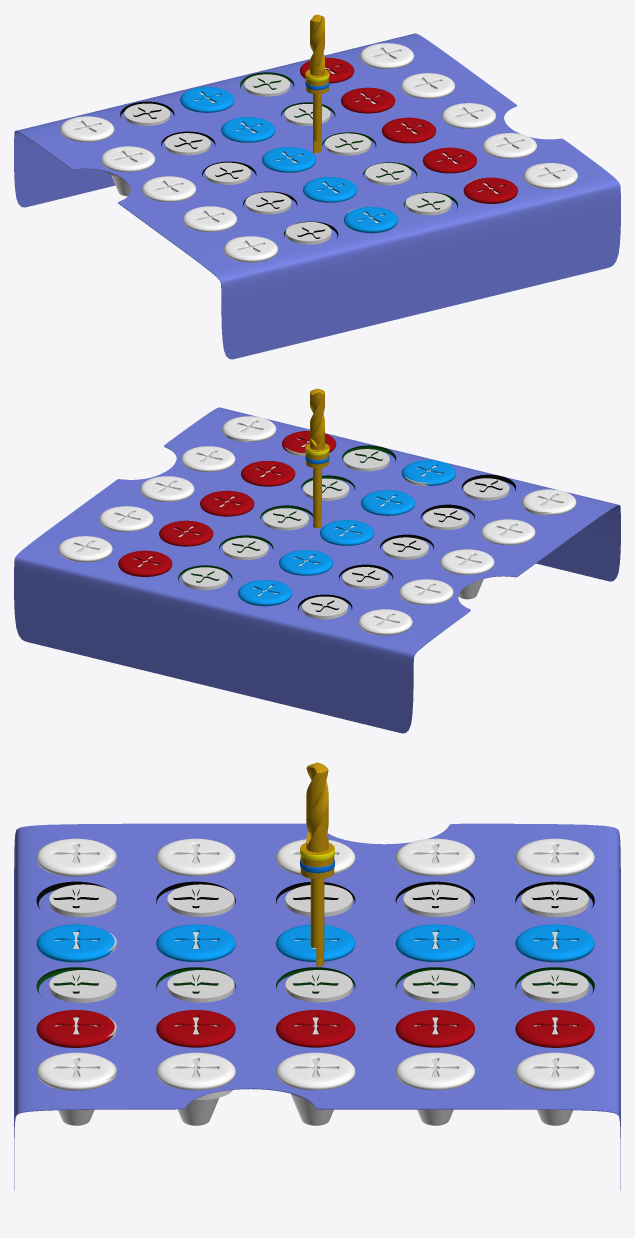
3 renders of one model, top to bottom at view 1: azimuth 30°, elevation 25°; view 2: azimuth 150°, elevation 25°; view 3: azimuth 270°, elevation 25°, orthographic. The views are drawn at different scales.
Parts seen in each view (by area): view 1: Plane, Cylinder.002, Slot.002, Slot.005, Slot.025, Slot.030, Slot.015, Slot.001, Slot.022, Slot.023, Slot.026, Slot.024 (+12 smaller); view 2: Plane, Cylinder.002, Slot.003, Slot.001, Slot.026, Slot.011, Slot.021, Slot.022, Slot.002, Slot.023, Slot.028, Slot.013 (+12 smaller); view 3: Plane, Cylinder.002, Slot.029, Slot.028, Slot.027, Slot.026, Slot.030, Slot.001, Slot.011, Slot.021, Slot.004, Slot.002 (+12 smaller).
Part boxes in pixels (left/top/right/bottom): Plane: left=14, top=33, right=620, bottom=359; Cylinder.002: left=74, top=49, right=563, bottom=252; Slot.002: left=101, top=146, right=155, bottom=196; Slot.005: left=223, top=236, right=277, bottom=262; Slot.025: left=463, top=177, right=517, bottom=203; Slot.030: left=523, top=163, right=577, bottom=189; Slot.015: left=344, top=207, right=398, bottom=233; Slot.001: left=60, top=116, right=114, bottom=142; Slot.022: left=341, top=87, right=395, bottom=113; Slot.023: left=382, top=117, right=436, bottom=143; Slot.026: left=360, top=43, right=414, bottom=68; Slot.024: left=422, top=147, right=476, bottom=173; Plane: left=14, top=407, right=620, bottom=733; Cylinder.002: left=73, top=422, right=561, bottom=625; Slot.003: left=440, top=549, right=494, bottom=599; Slot.001: left=358, top=609, right=412, bottom=635; Slot.026: left=58, top=536, right=112, bottom=562; Slot.011: left=238, top=580, right=292, bottom=606; Slot.021: left=118, top=550, right=172, bottom=576; Slot.022: left=159, top=520, right=213, bottom=546; Slot.002: left=399, top=579, right=453, bottom=604; Slot.023: left=200, top=490, right=254, bottom=516; Slot.028: left=140, top=476, right=194, bottom=501; Slot.013: left=320, top=520, right=374, bottom=545; Plane: left=14, top=823, right=620, bottom=1190; Cylinder.002: left=49, top=846, right=588, bottom=1099; Slot.029: left=156, top=1052, right=235, bottom=1125; Slot.028: left=276, top=1052, right=355, bottom=1125; Slot.027: left=395, top=1052, right=474, bottom=1125; Slot.026: left=515, top=1052, right=594, bottom=1125; Slot.030: left=36, top=1052, right=114, bottom=1125; Slot.001: left=515, top=838, right=594, bottom=876; Slot.011: left=515, top=924, right=594, bottom=962; Slot.021: left=515, top=1010, right=594, bottom=1047; Slot.004: left=156, top=838, right=235, bottom=876; Slot.002: left=395, top=838, right=474, bottom=876.
Size of the model in its own units: 0.1 by 0.0533 by 0.09.
